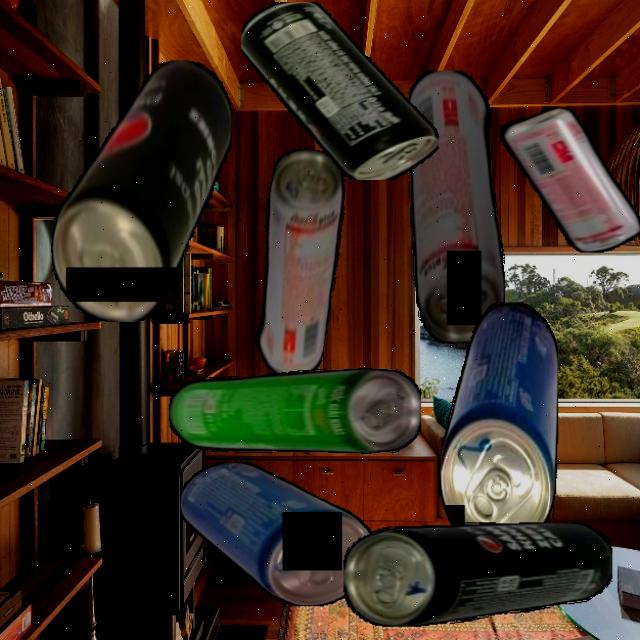debris: (50, 59, 232, 322), (241, 1, 439, 180), (439, 302, 558, 551), (343, 521, 612, 627), (238, 144, 357, 381), (179, 462, 373, 606), (408, 70, 505, 343), (168, 368, 421, 454), (499, 108, 640, 252)
